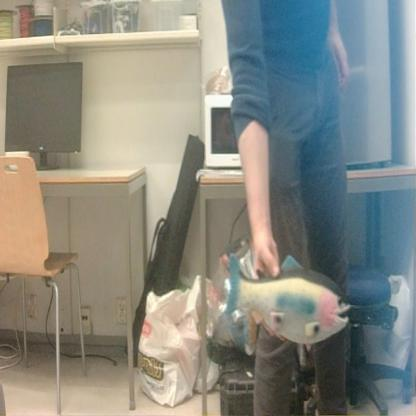rubberfish: (224, 244, 354, 351)
